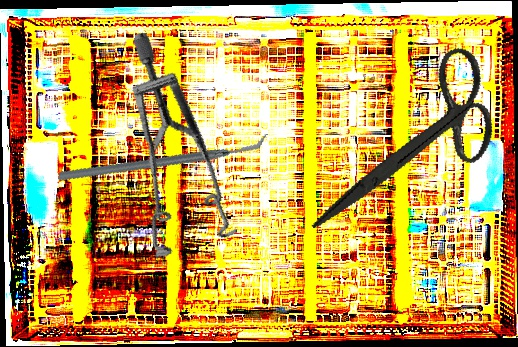Chopper: (57, 84, 269, 231)
Iris Scissors: (309, 20, 516, 271)
Speculum: (71, 30, 287, 281)
